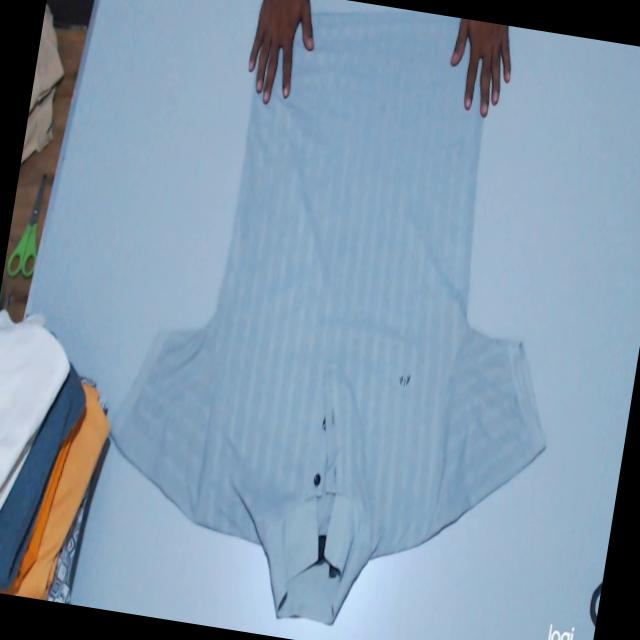new-garment: (115, 13, 545, 623)
